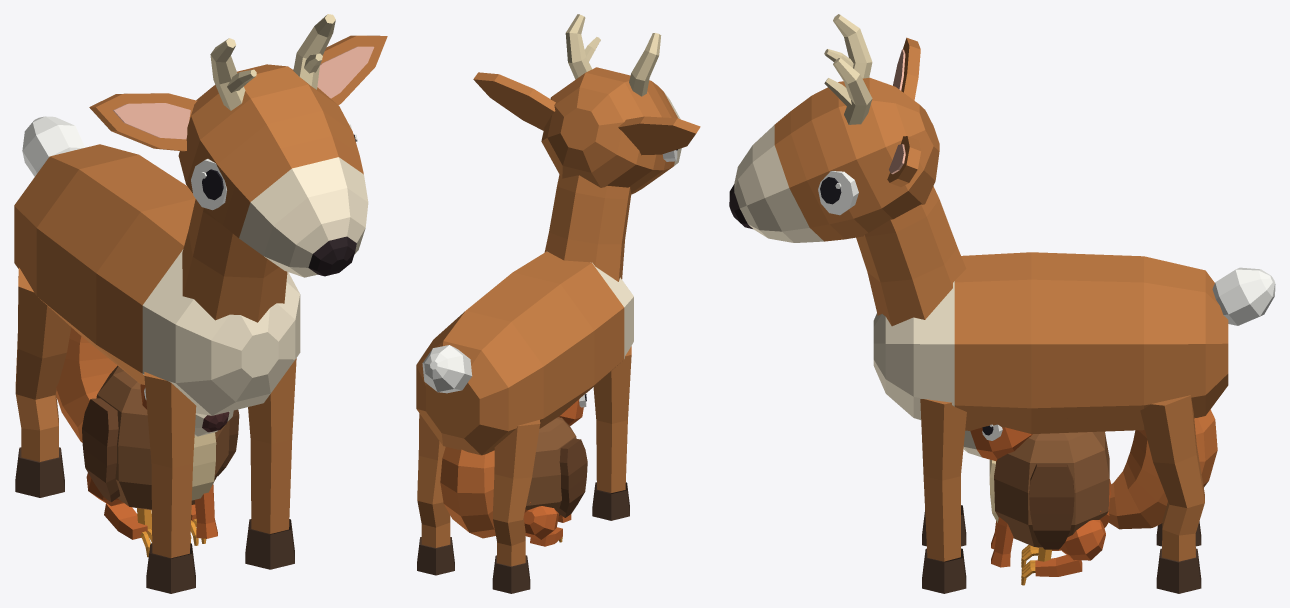
The model's file is w2_critters.fbx.
The picture shows the model from 3 angles, left to right: view 1: azimuth 30°, elevation 25°; view 2: azimuth 150°, elevation 25°; view 3: azimuth 270°, elevation 25°; orthographic projection. The views are drawn at different scales.
Visible parts, largest first — view 1: Deer.Torso, Deer.Head, Deer.Bib, Deer.Muzzle, Deer.Neck, Deer.RightLeg, Deer.RightBackLeg, Deer.LeftLeg, Owl.Torso, Deer.Antlers, Squirrel.Tail, Owl.RightArm (+14 smaller); view 2: Deer.Torso, Deer.Head, Deer.Neck, Deer.RightBackLeg, Squirrel.Tail, Deer.RightLeg, Deer.LeftBackLeg, Owl.Torso, Deer.LeftArm, Deer.Antlers, Deer.RightArm, Deer.Tail (+6 smaller); view 3: Deer.Torso, Deer.Head, Deer.Neck, Owl.Torso, Deer.Bib, Deer.LeftBackLeg, Deer.LeftLeg, Deer.Muzzle, Squirrel.Tail, Owl.LeftArm, Deer.Antlers, Deer.Tail (+8 smaller).
Part boxes in pixels (<box>): Deer.Torso: <box>14,144,195,384</box>; Deer.Head: <box>178,64,363,237</box>; Deer.Bib: <box>142,249,300,415</box>; Deer.Muzzle: <box>239,157,368,277</box>; Deer.Neck: <box>182,199,287,322</box>; Deer.RightLeg: <box>144,372,196,558</box>; Deer.RightBackLeg: <box>15,268,71,461</box>; Deer.LeftLeg: <box>248,358,296,533</box>; Owl.Torso: <box>96,365,229,510</box>; Deer.Antlers: <box>210,14,335,110</box>; Squirrel.Tail: <box>56,327,117,442</box>; Owl.RightArm: <box>82,398,119,502</box>; Deer.Torso: <box>416,251,624,455</box>; Deer.Head: <box>541,67,678,194</box>; Deer.Neck: <box>544,174,631,281</box>; Deer.RightBackLeg: <box>493,420,540,566</box>; Squirrel.Tail: <box>440,447,495,538</box>; Deer.RightLeg: <box>593,346,631,492</box>; Deer.LeftBackLeg: <box>417,413,450,547</box>; Owl.Torso: <box>525,417,576,515</box>; Deer.LeftArm: <box>473,72,555,130</box>; Deer.Antlers: <box>565,14,661,96</box>; Deer.RightArm: <box>618,116,700,155</box>; Deer.Tail: <box>422,345,472,393</box>; Deer.Torso: <box>954,252,1228,433</box>; Deer.Head: <box>774,77,939,241</box>; Deer.Neck: <box>856,186,966,326</box>; Owl.Torso: <box>994,431,1109,547</box>; Deer.Bib: <box>873,281,954,419</box>; Deer.LeftBackLeg: <box>1140,395,1204,561</box>; Deer.LeftLeg: <box>920,399,966,561</box>; Deer.Muzzle: <box>734,125,823,242</box>; Squirrel.Tail: <box>1108,409,1217,529</box>; Owl.LeftArm: <box>1029,464,1074,549</box>; Deer.Antlers: <box>824,14,872,124</box>; Deer.Tail: <box>1212,267,1275,325</box>.
Size of the model in its own units: 2.95 by 5.77 by 5.33.
